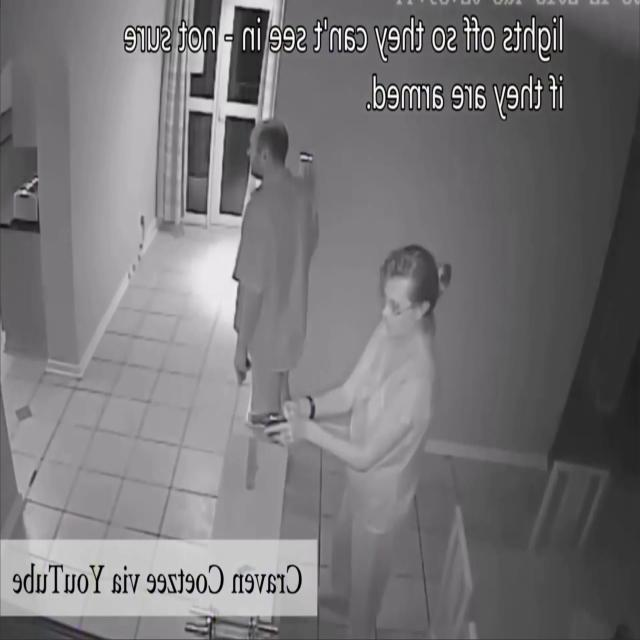Gun: (248, 409, 294, 451)
